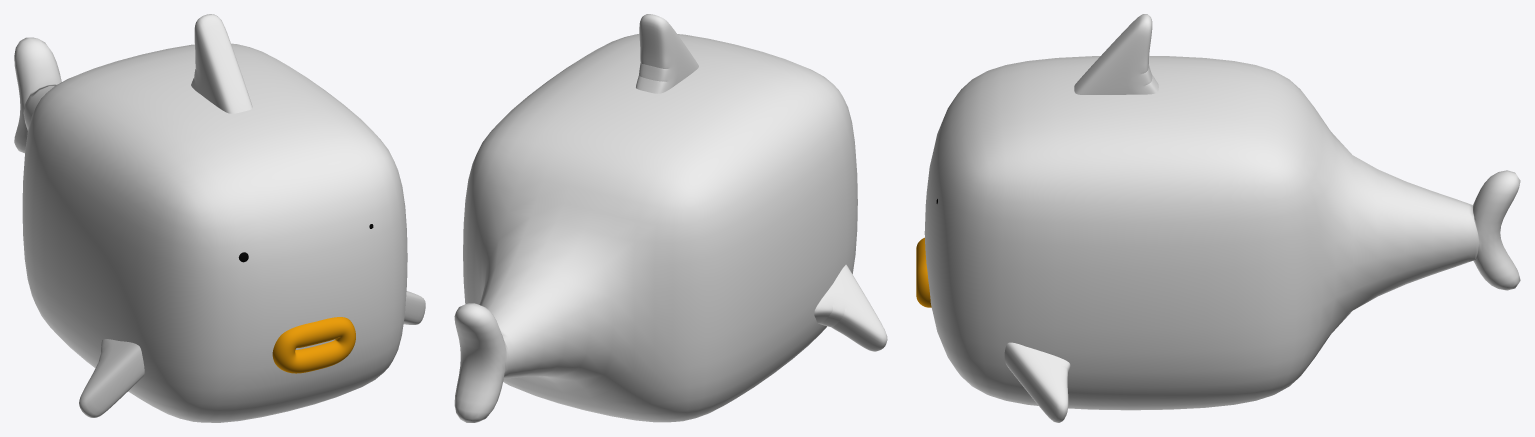
The model's file is fish 2.fbx.
3 renders of one model, left to right at view 1: azimuth 30°, elevation 25°; view 2: azimuth 150°, elevation 25°; view 3: azimuth 270°, elevation 25°, orthographic. The views are drawn at different scales.
Parts seen in each view (by area): view 1: Cube, Cube.001, Circle, Cube.003, Cube.002; view 2: Cube, Cube.001, Cube.003; view 3: Cube, Cube.001, Cube.002, Circle.
Part boxes in pixels (x1=…): Cube: x1=14, y1=37, x2=407, y2=422; Cube.001: x1=191, y1=14, x2=252, y2=113; Circle: x1=272, y1=317, x2=355, y2=373; Cube.003: x1=79, y1=339, x2=144, y2=417; Cube.002: x1=403, y1=291, x2=425, y2=324; Cube: x1=454, y1=34, x2=857, y2=422; Cube.001: x1=636, y1=14, x2=698, y2=93; Cube.003: x1=814, y1=264, x2=887, y2=351; Cube: x1=924, y1=56, x2=1520, y2=410; Cube.001: x1=1074, y1=14, x2=1158, y2=94; Cube.002: x1=1004, y1=342, x2=1070, y2=422; Circle: x1=916, y1=237, x2=931, y2=307.
Size of the model in its own units: 188 by 181 by 273.
